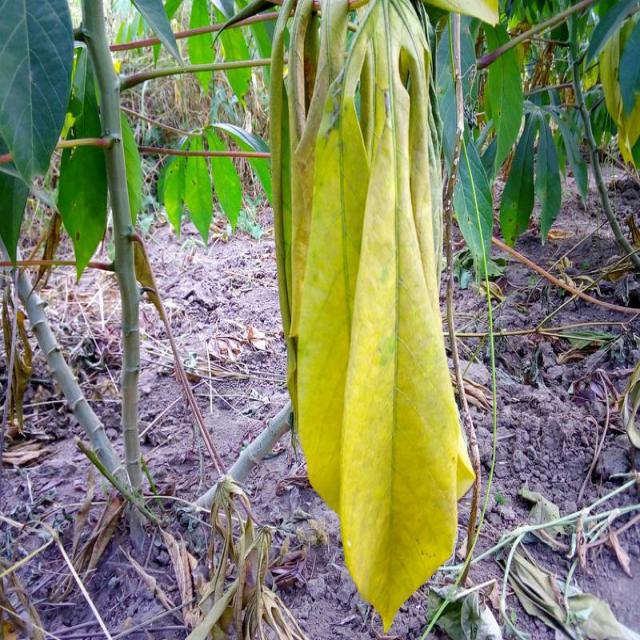cassava leaf: (271, 0, 478, 631)
